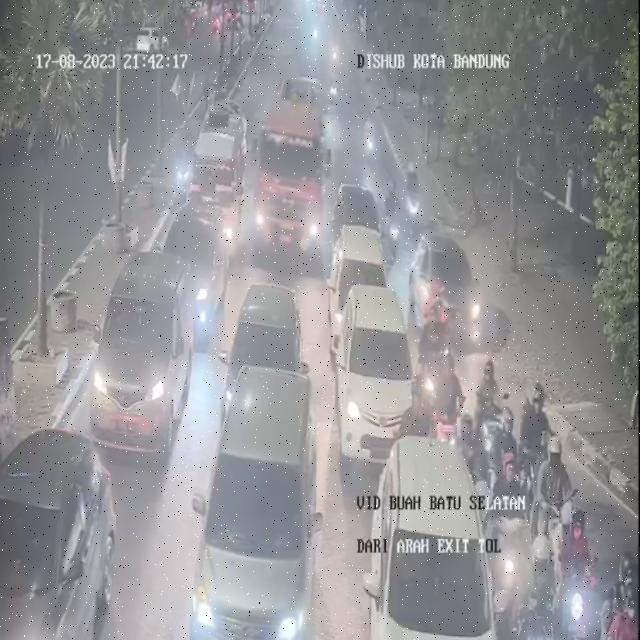cars: (195, 364, 316, 640), (363, 436, 495, 640), (0, 423, 116, 639), (90, 248, 194, 446), (334, 278, 418, 471), (223, 271, 309, 437), (411, 226, 487, 354), (160, 203, 222, 347), (184, 100, 242, 251), (332, 221, 390, 354), (332, 174, 384, 266)
motorcycle: (488, 448, 529, 621), (556, 492, 598, 640), (536, 429, 576, 560), (524, 542, 562, 640), (474, 353, 503, 470), (432, 349, 462, 460), (603, 547, 640, 631), (420, 298, 448, 401), (520, 382, 551, 456), (403, 161, 423, 233), (384, 176, 402, 255), (359, 100, 380, 163), (458, 408, 478, 474), (386, 173, 401, 227)
truck: (251, 93, 326, 263)
